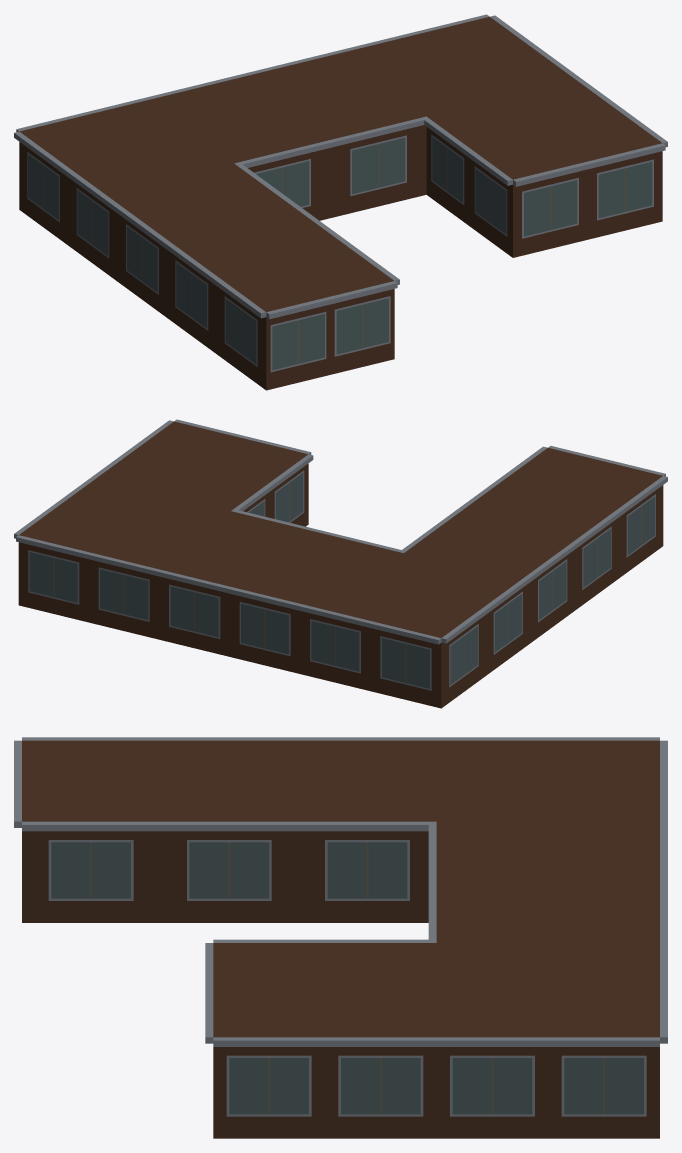
The model's file is mid-prebuilt.fbx.
3 views of the same model, one above another, from view 1: azimuth 30°, elevation 25°; view 2: azimuth 150°, elevation 25°; view 3: azimuth 270°, elevation 25° (orthographic). The views are drawn at different scales.
Visible parts, largest first — view 1: a2016/0/mid-prebuilt; view 2: a2016/0/mid-prebuilt; view 3: a2016/0/mid-prebuilt.
Boxes of the visible parts, x1=… form: a2016/0/mid-prebuilt: x1=14, y1=14, x2=667, y2=390; a2016/0/mid-prebuilt: x1=14, y1=419, x2=667, y2=708; a2016/0/mid-prebuilt: x1=14, y1=737, x2=667, y2=1138.
Bounding box in the file's own units: 22.5 × 3.5 × 20.5.
